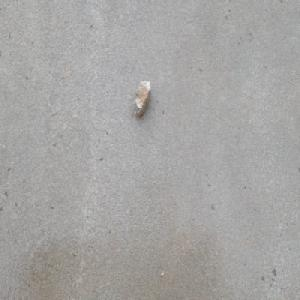Rock: (133, 79, 152, 118)
